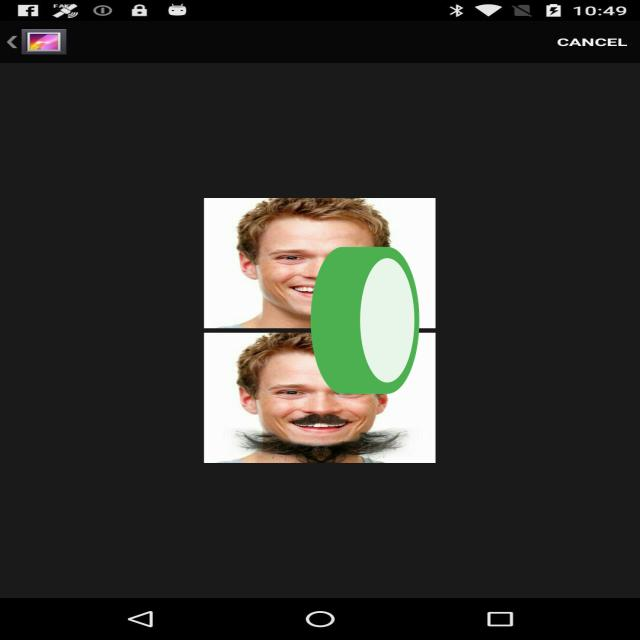social proof: (306, 190, 424, 462)
